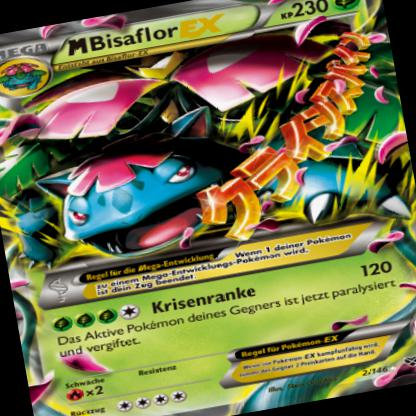Venusaur: (1, 34, 414, 277)
